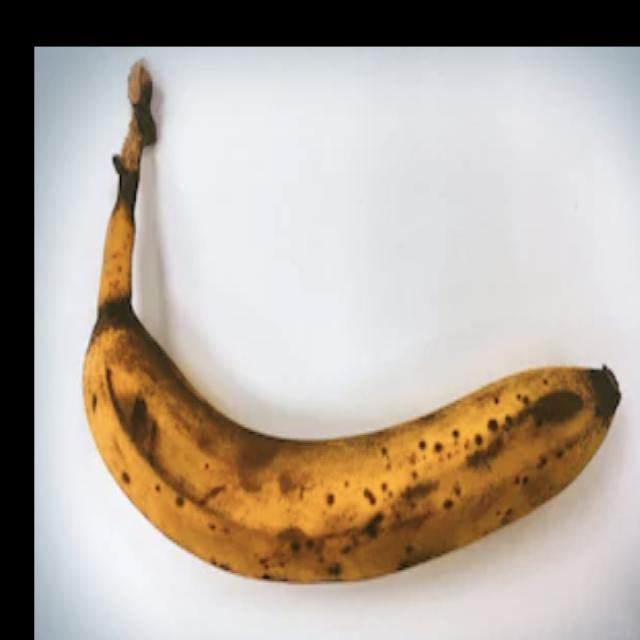banana: (118, 69, 581, 581)
